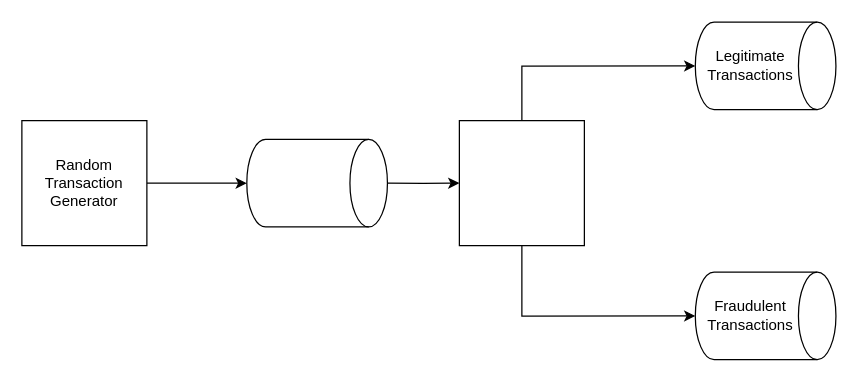
Some shapes in this 859 by 381 pixel diagram are drawn without their labels. Here are the shapes that lost their labels. From the top down, the centre of each, then its label:
At [317,182]: "Queueing Transactions".
At [521,182]: "Transaction Categorization".
